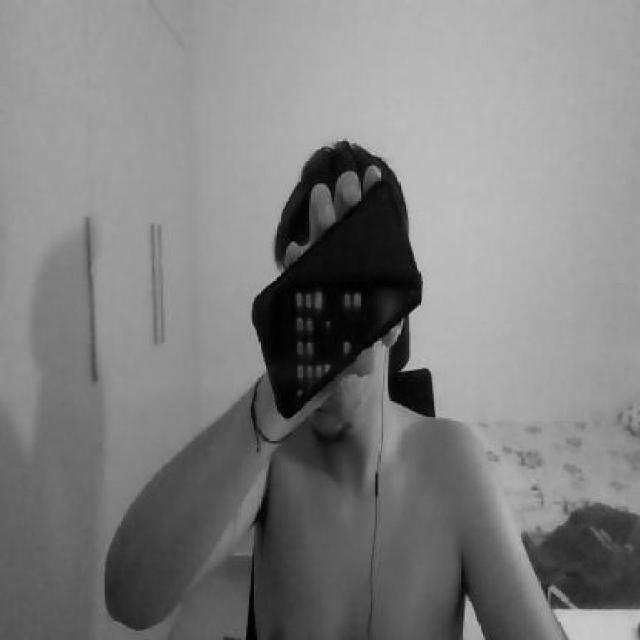fake: (253, 178, 424, 424)
